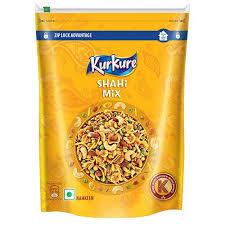kurkure: (83, 53, 138, 75)
plastic: (38, 9, 178, 206)
wrapper: (29, 1, 198, 222)
